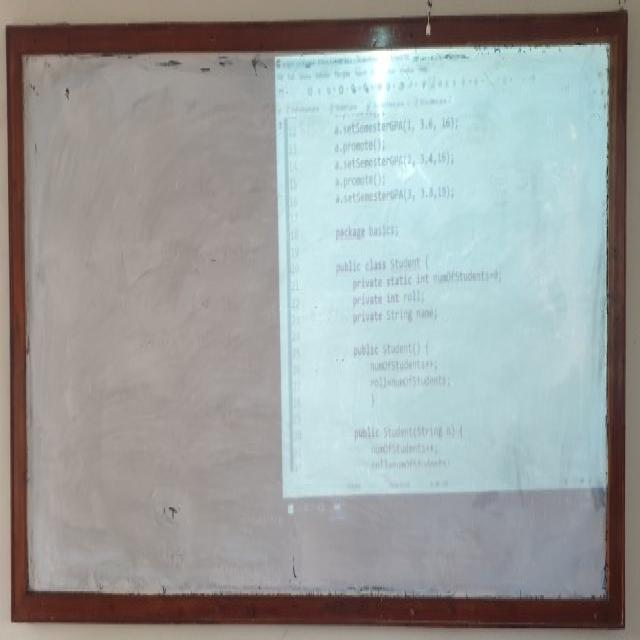Slide: (273, 50, 609, 524)
White-board: (14, 24, 619, 613)
